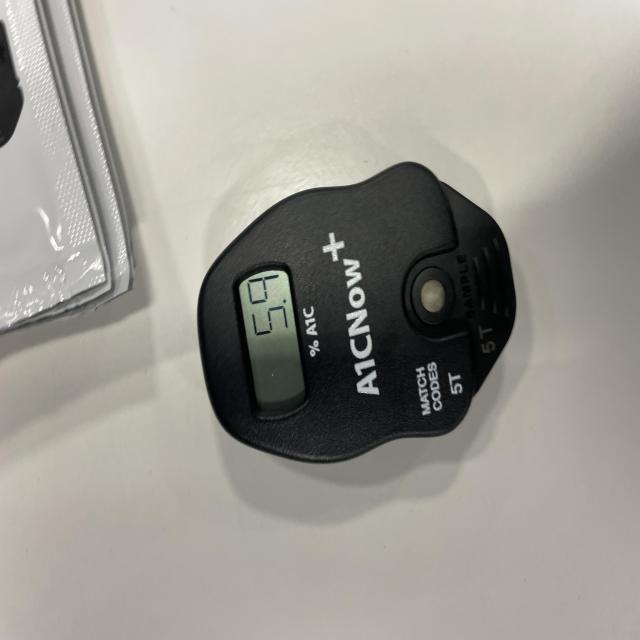hba1c: (195, 162, 518, 468)
